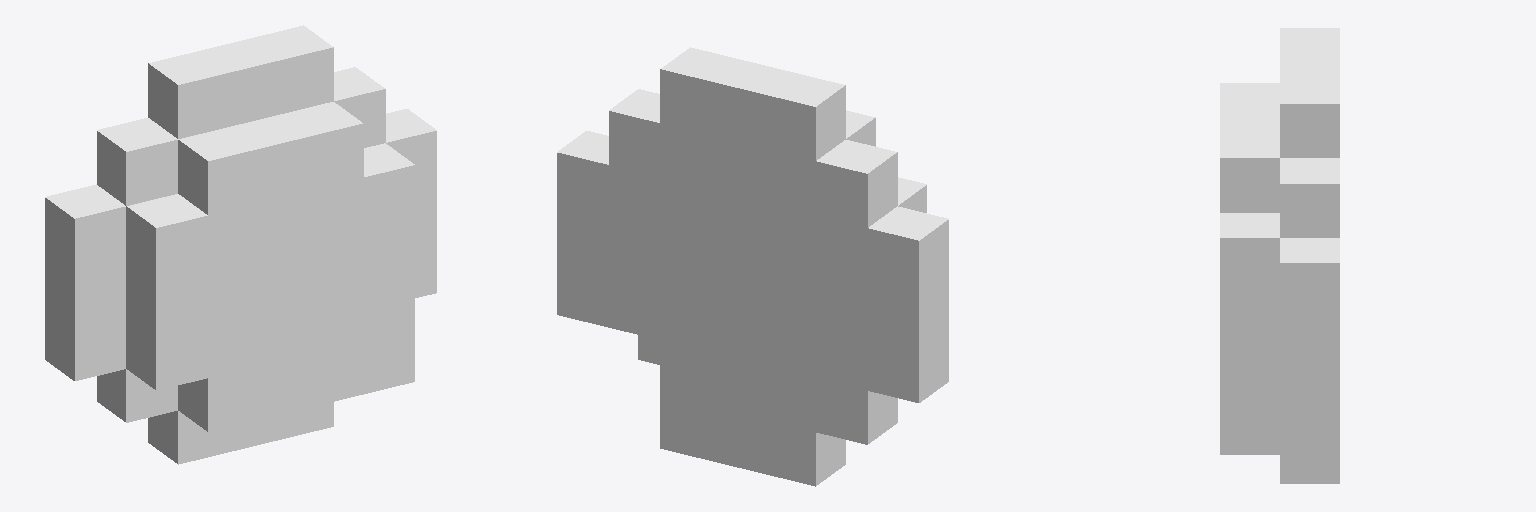
File: tire-tx.obj
The picture shows the model from 3 angles: view 1: azimuth 30°, elevation 25°; view 2: azimuth 150°, elevation 25°; view 3: azimuth 270°, elevation 25°; orthographic projection.
Parts seen in each view (by area): view 1: tire001; view 2: tire001; view 3: tire001.
Part boxes in pixels (bbox=[...]): tire001: bbox=[45, 25, 436, 464]; tire001: bbox=[557, 47, 948, 486]; tire001: bbox=[1220, 28, 1339, 483].
Size of the model in its own units: 0.7 by 0.7 by 0.2.